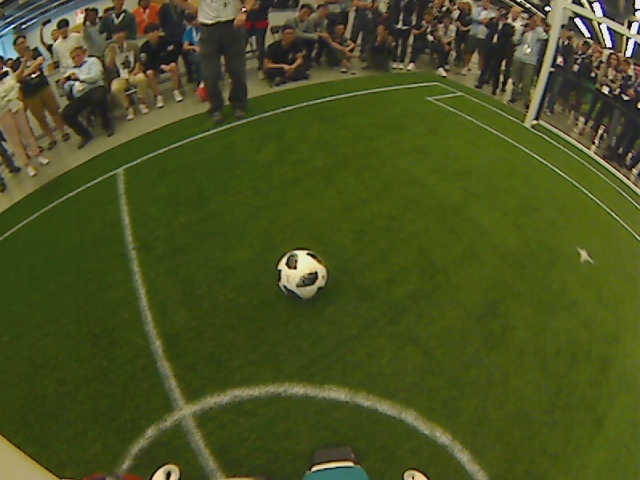ball: (274, 248, 329, 301)
